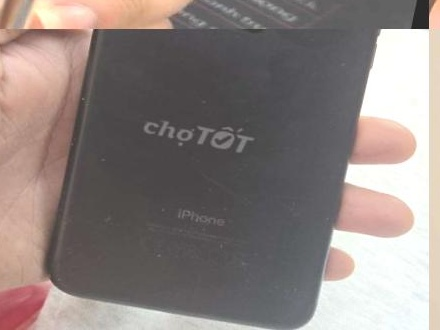scratch: (187, 163, 341, 225), (202, 237, 314, 307), (148, 190, 233, 238), (319, 45, 351, 70), (144, 245, 166, 261), (197, 89, 216, 104), (236, 112, 256, 126), (100, 203, 112, 226), (333, 151, 349, 168), (92, 153, 107, 166), (230, 30, 246, 42), (322, 117, 335, 127), (76, 92, 87, 103)
